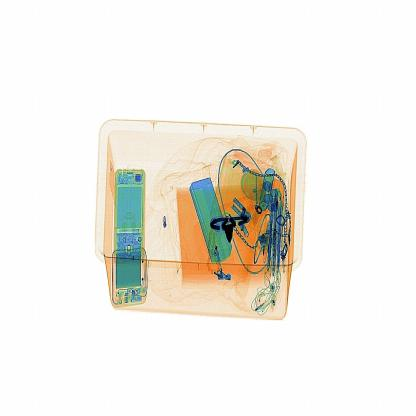gun: (200, 200, 249, 249)
